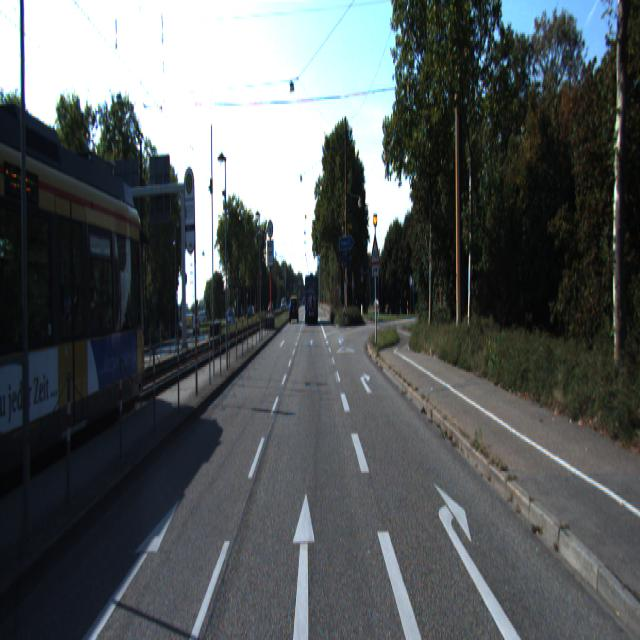Car: (0, 116, 154, 517), (304, 273, 319, 324), (290, 298, 298, 323)
